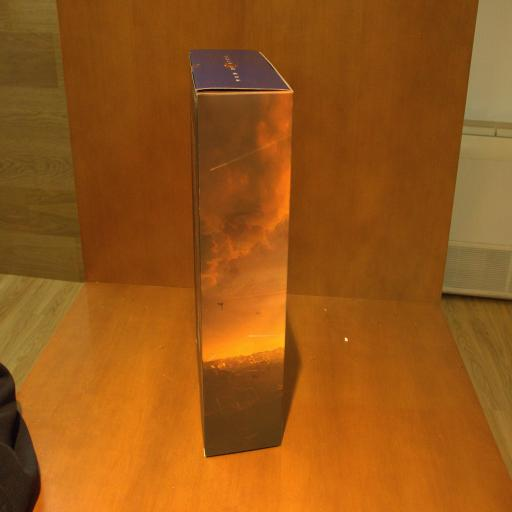superman: (189, 49, 294, 455)
